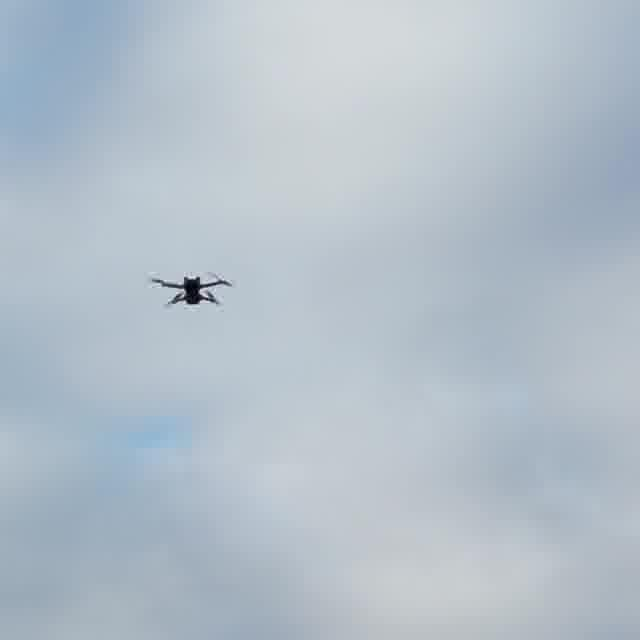Drohne: (152, 276, 231, 305)
